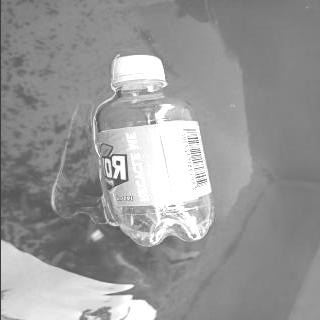bottle: (88, 54, 218, 248)
